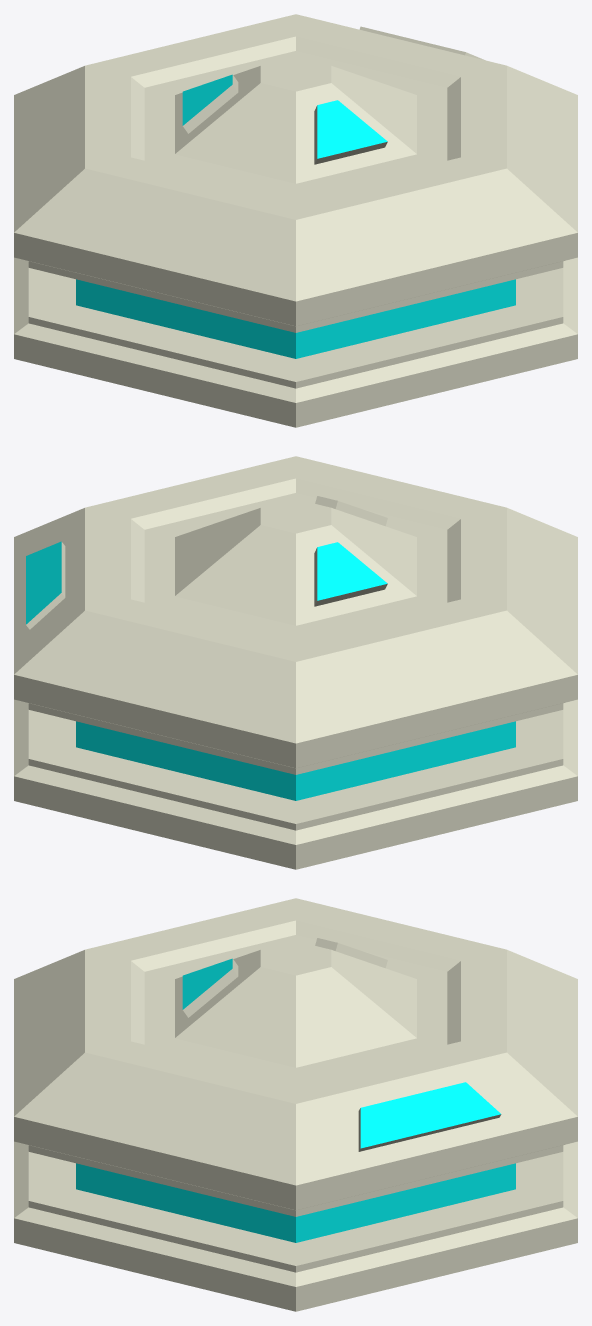
The model's file is HexapodBody.fbx.
3 renders of one model, top to bottom at view 1: azimuth 30°, elevation 25°; view 2: azimuth 150°, elevation 25°; view 3: azimuth 270°, elevation 25°, orthographic.
Parts seen in each view (by area): view 1: pasted__Hex; view 2: pasted__Hex; view 3: pasted__Hex.
Part boxes in pixels (x1,y1,x2,y2): pasted__Hex: [14, 14, 577, 427]; pasted__Hex: [14, 456, 577, 869]; pasted__Hex: [14, 898, 577, 1311].
Size of the model in its own units: 10 by 4.36 by 8.66.
